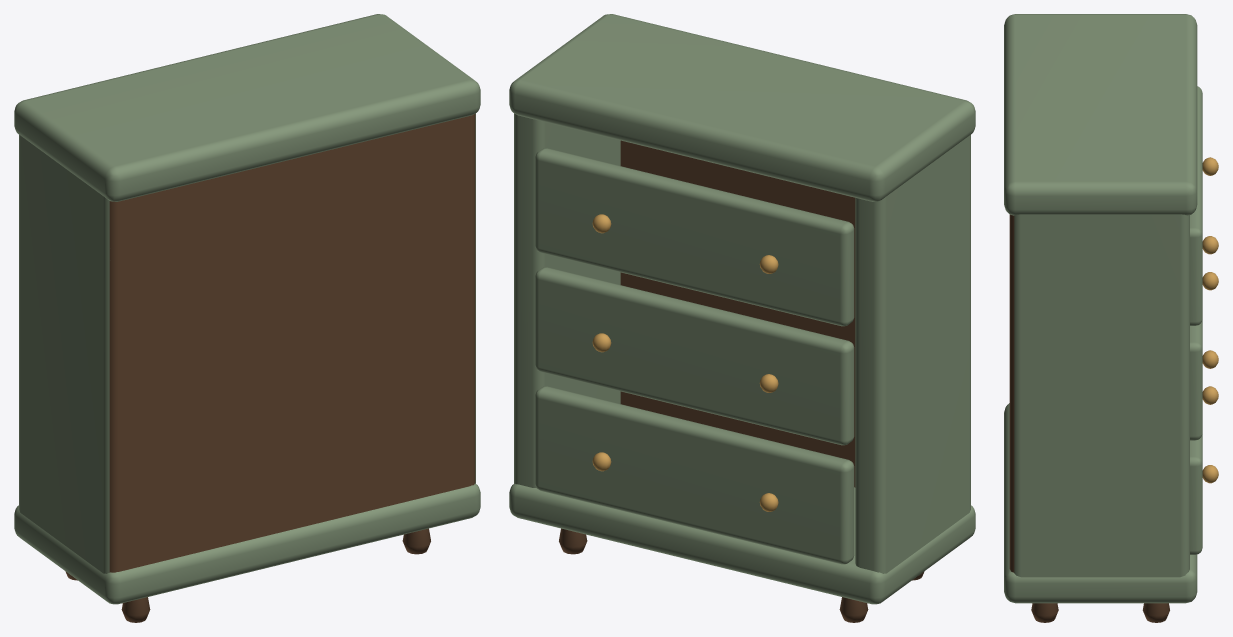
The model's file is dresser.glb.
The picture shows the model from 3 angles, left to right: view 1: azimuth 30°, elevation 25°; view 2: azimuth 150°, elevation 25°; view 3: azimuth 270°, elevation 25°; orthographic projection. The views are drawn at different scales.
Parts seen in each view (by area): view 1: House_dresser; view 2: House_dresser; view 3: House_dresser.
Part boxes in pixels (<box>): House_dresser: <box>14,14,480,622</box>; House_dresser: <box>509,14,975,622</box>; House_dresser: <box>1004,14,1218,622</box>.
Size of the model in its own units: 1.12 by 1.35 by 0.578.
